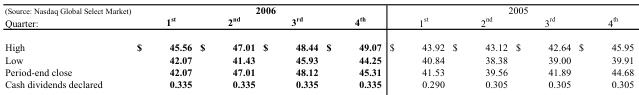table: (3, 4, 633, 89)
table column: (3, 4, 133, 89), (447, 4, 511, 89), (195, 4, 258, 89), (258, 4, 321, 89), (321, 4, 384, 89), (384, 4, 447, 89), (511, 4, 574, 89), (133, 4, 195, 89), (574, 4, 633, 89)
table column header: (3, 4, 633, 34)
table row: (3, 15, 633, 34), (3, 34, 633, 53), (3, 53, 633, 65), (3, 65, 633, 77), (3, 77, 633, 89), (3, 4, 633, 15)
table spanning cell: (3, 4, 133, 34), (321, 4, 384, 34), (384, 4, 447, 34), (133, 4, 195, 34), (574, 4, 633, 34), (447, 4, 574, 15), (195, 4, 321, 15)
